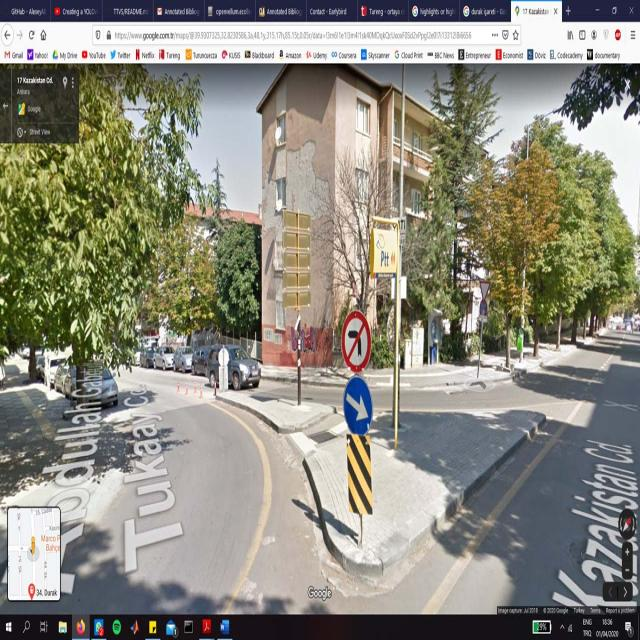soladonulmez: (344, 310, 368, 370)
